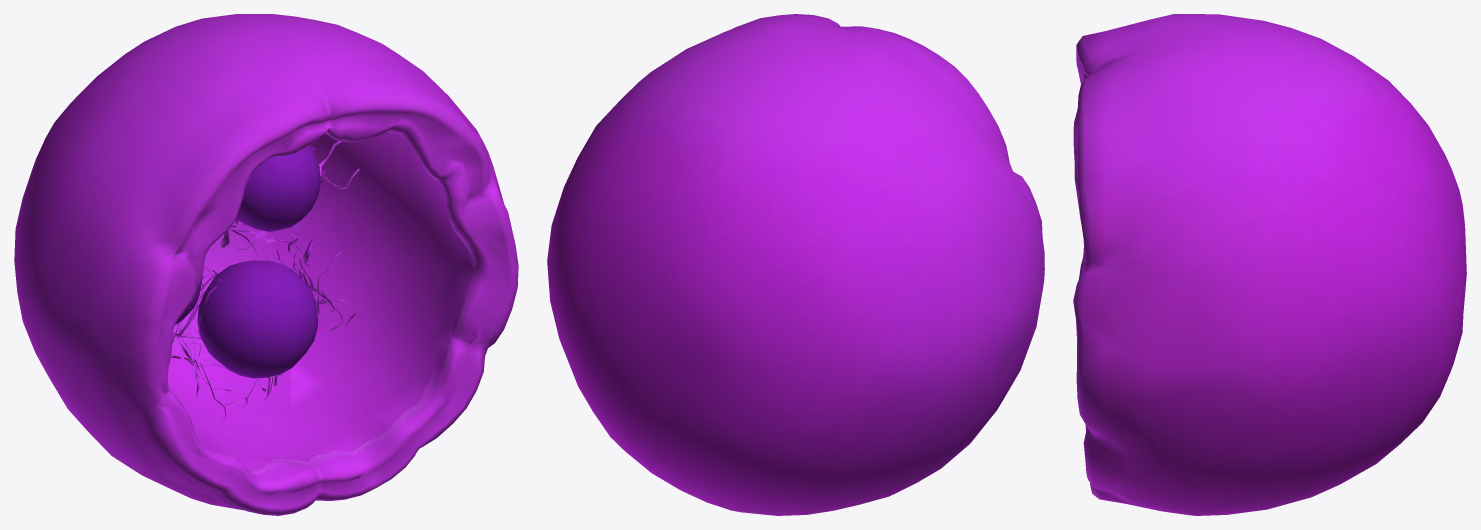
File: cell-nucleus.glb
3 views of the same model, side by side, from view 1: azimuth 30°, elevation 25°; view 2: azimuth 150°, elevation 25°; view 3: azimuth 270°, elevation 25° (orthographic). The views are drawn at different scales.
Bounding box in the file's own units: 0.9614 × 0.9522 × 0.7461.
Materials: 1 (1 with a texture image).
